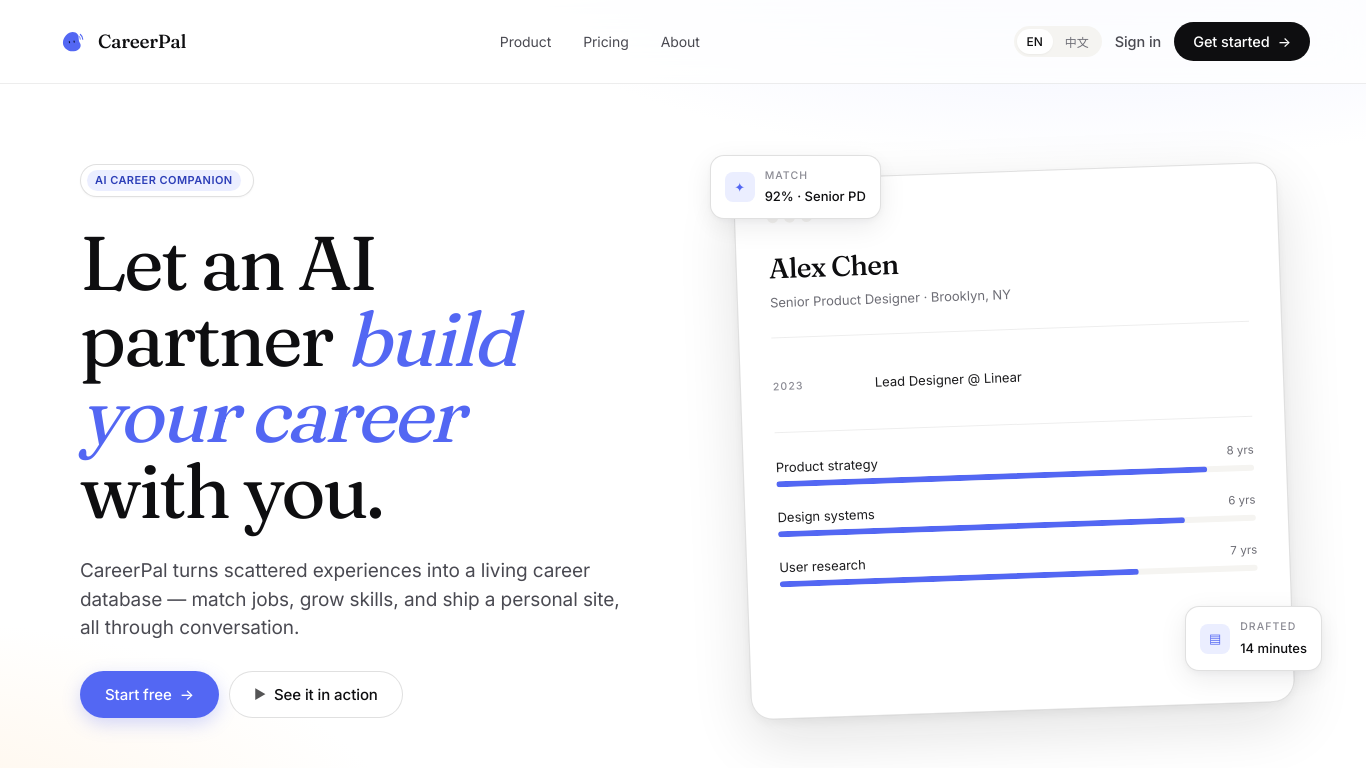
Test: StageApp › keeps login usable with a clear message when workspace loading hits a network failure
The width and height of the screenshot is (1366, 768).
Click the button "Sign in" at (1138, 42), box [1110,24,1166,59]
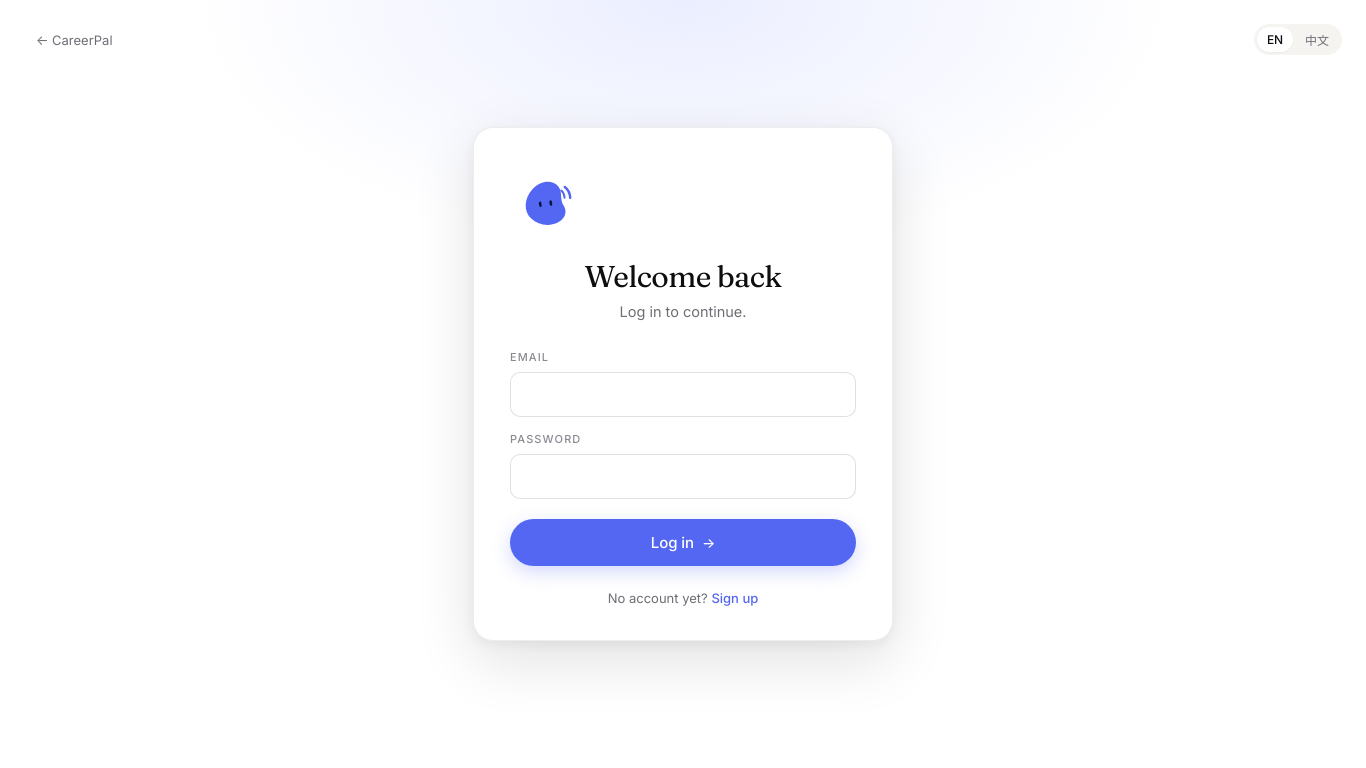
Type "alex@example.com" into the field labelled "Email" at (683, 394), box [510,372,856,416]
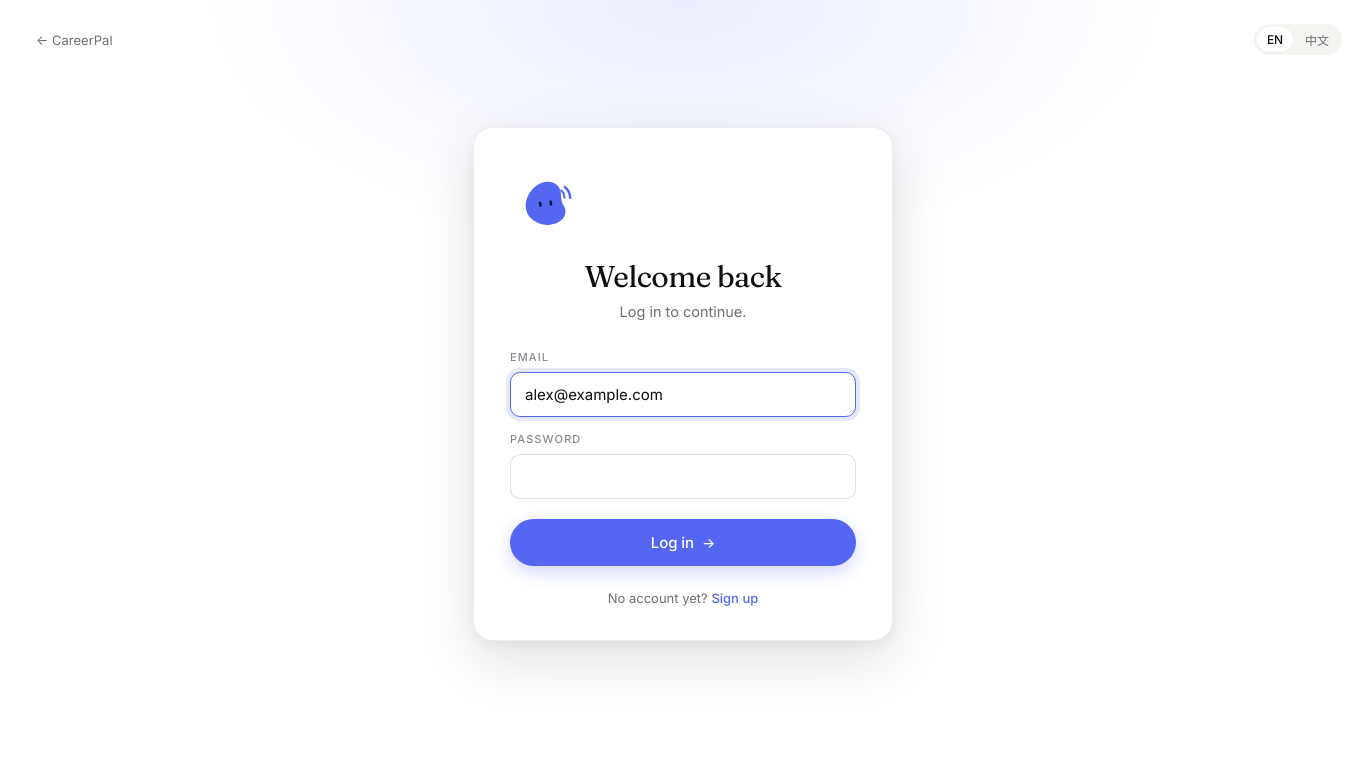
Type "secret123" into the password field labelled "Password" at (683, 476), box [510,454,856,499]
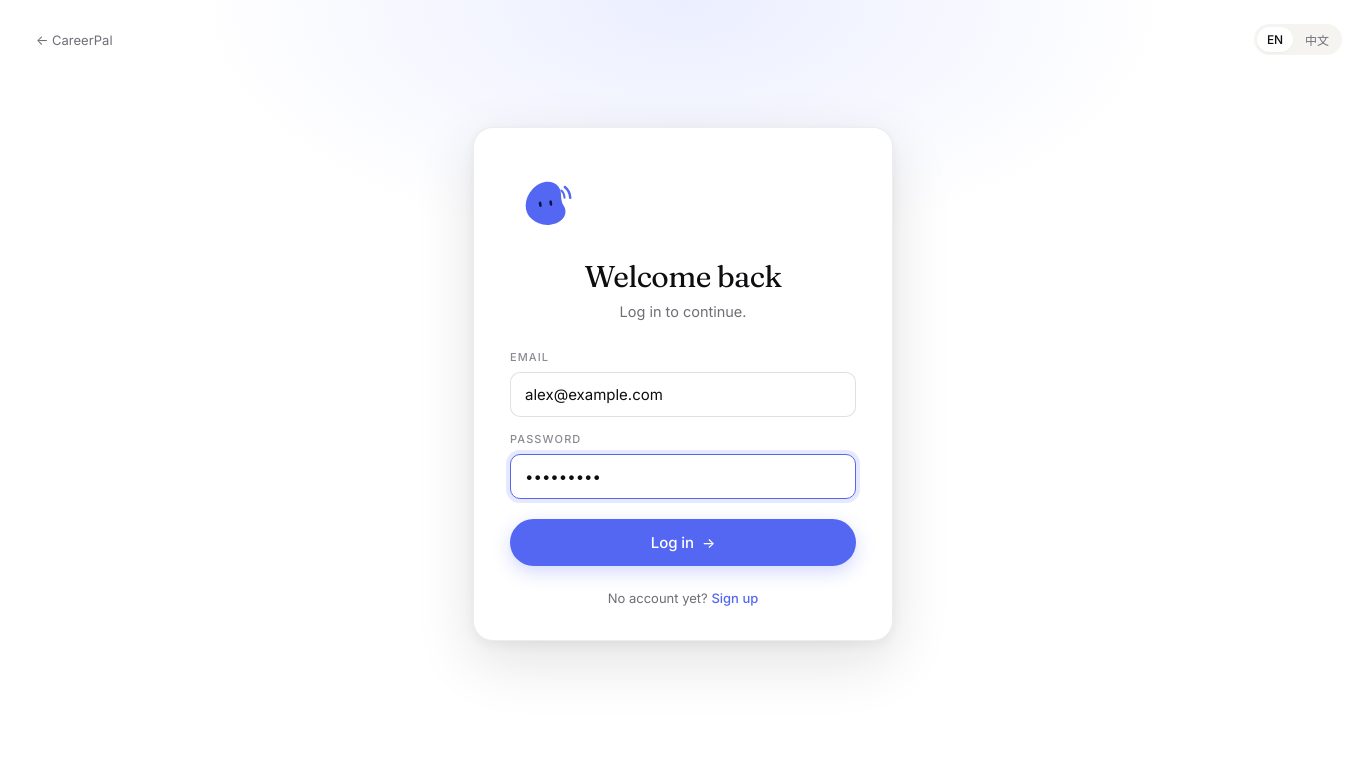
Click the button "Log in →" at (683, 542), box [510,519,856,566]
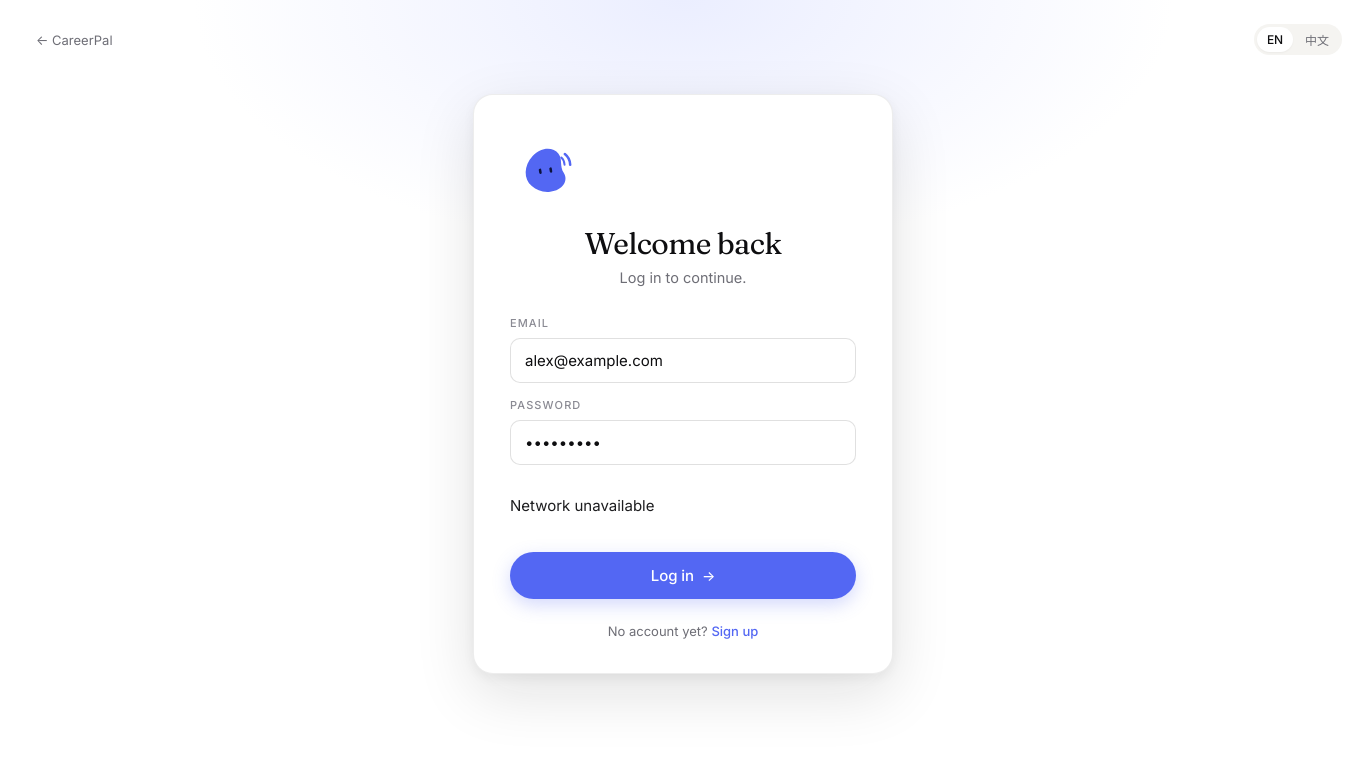
Now the button "Log in →" is enabled, box [510,552,856,599]
Now the text "Network unavailable" is shown, box [510,496,654,515]
